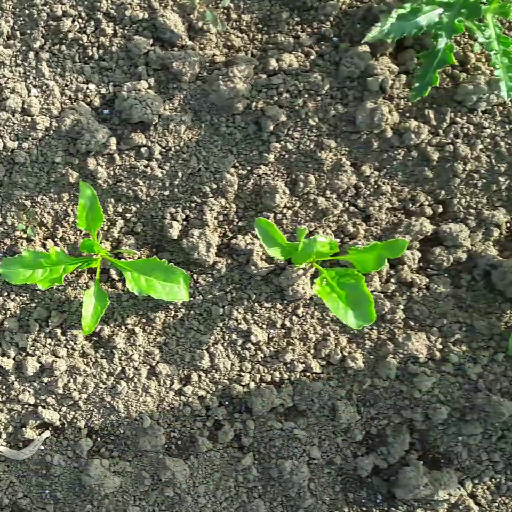sugarbeet: (1, 173, 201, 341), (252, 214, 413, 331)
weed: (353, 1, 502, 106), (178, 1, 234, 32), (11, 208, 43, 239)
